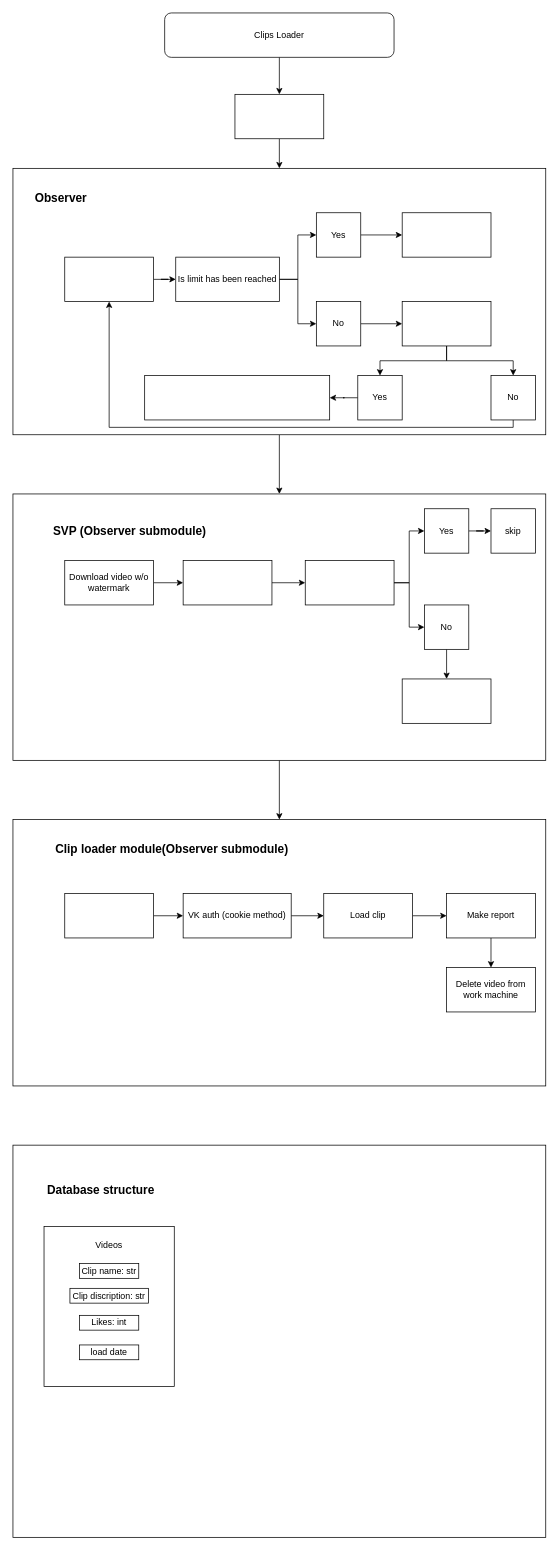
This 559x1550 diagram has some shape labels left out. The centre of each missing label's shape, as x and y in pixels:
"Check video duration" goes at point (227, 582).
"Get video from SVP" goes at point (109, 915).
"Has video more than 100k likes?" goes at point (446, 323).
"Is video longer than 60 sec?" goes at point (349, 582).
"return video path to clip loader module" goes at point (446, 700).
"Return video to SVP (special video processor)" goes at point (237, 397).
"Scroll tiktok" goes at point (109, 279).
"Sleep for 1 hour" goes at point (446, 234).
"TT auth" goes at point (279, 116).
